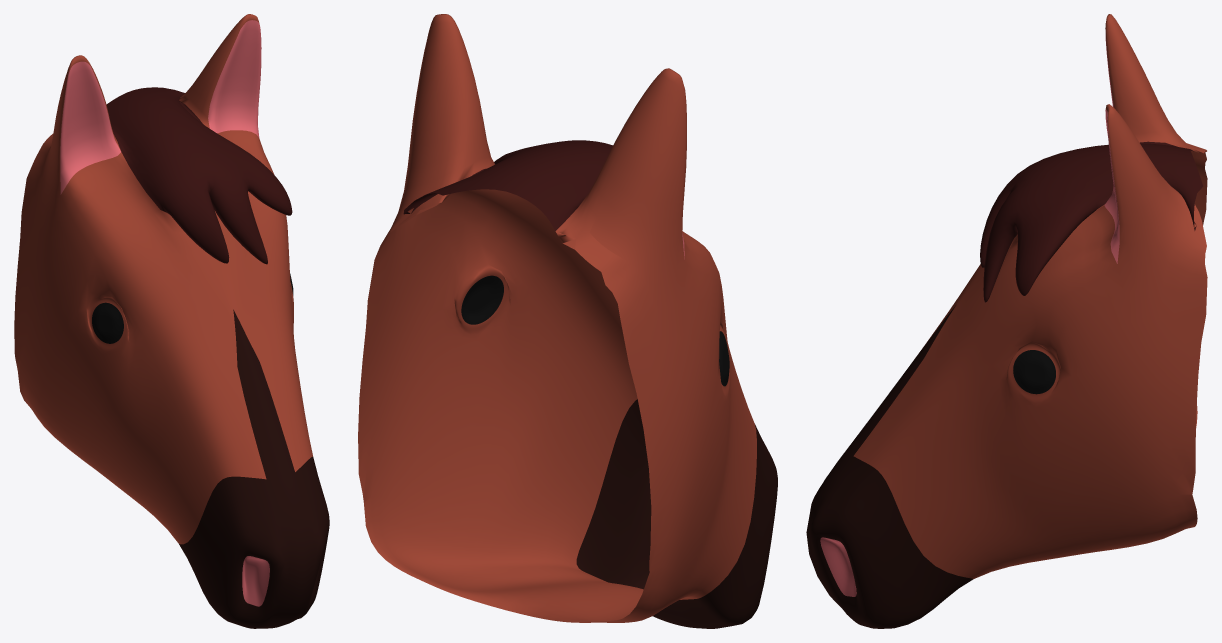
The model's file is caballo.glb.
The picture shows the model from 3 angles, left to right: view 1: azimuth 30°, elevation 25°; view 2: azimuth 150°, elevation 25°; view 3: azimuth 270°, elevation 25°; orthographic projection. The views are drawn at different scales.
Visible parts, largest first — view 1: Cube.001; view 2: Cube.001; view 3: Cube.001.
Part boxes in pixels (bbox=[...]): Cube.001: bbox=[14, 14, 329, 628]; Cube.001: bbox=[358, 14, 777, 628]; Cube.001: bbox=[806, 14, 1207, 628].
Size of the model in its own units: 7.27 by 16.07 by 10.43.
